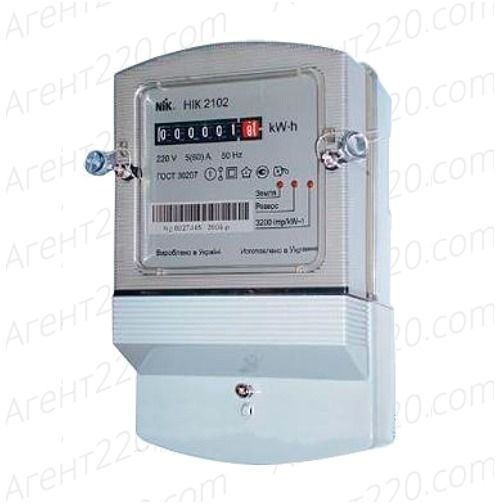counter: (111, 38, 372, 434)
counter_screen: (152, 113, 266, 148)
